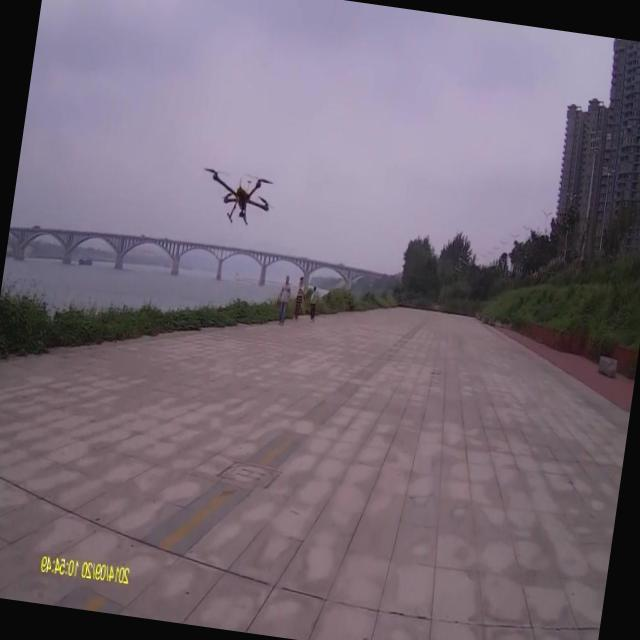drone: (197, 162, 277, 232)
